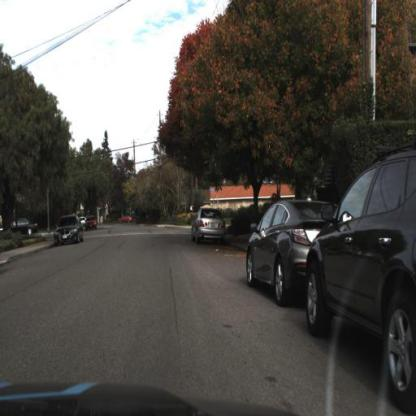car: (304, 149, 416, 414), (247, 194, 334, 308), (191, 203, 232, 249), (55, 214, 82, 241), (13, 217, 40, 238)
